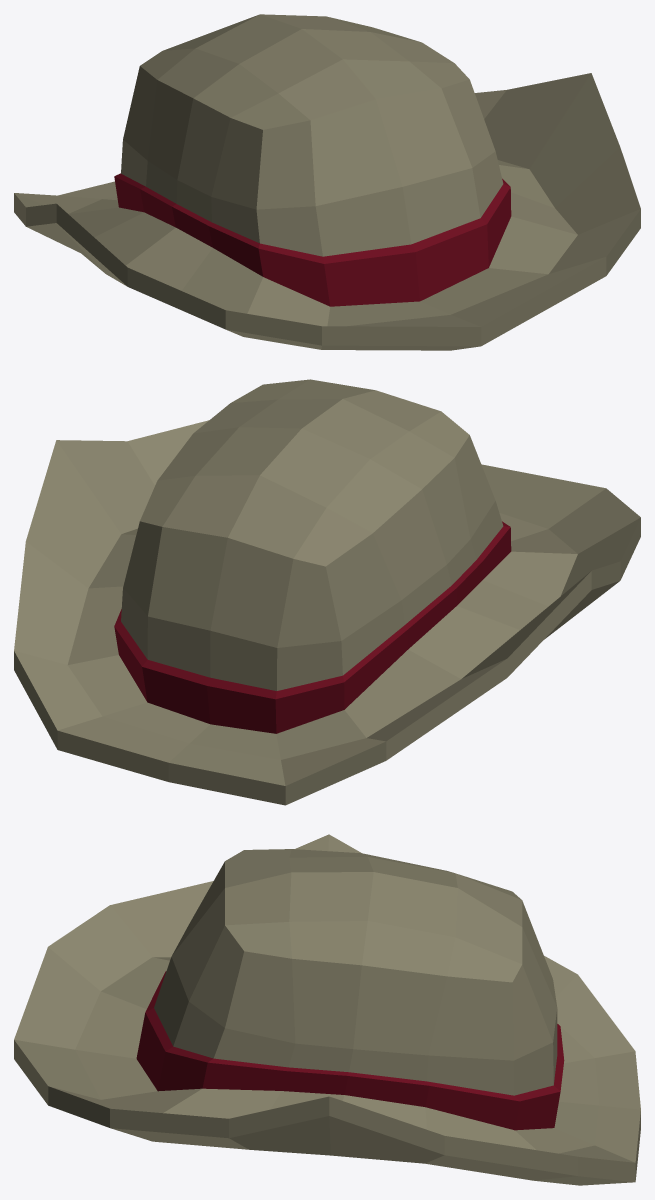
The model's file is hat.glb.
The picture shows the model from 3 angles, top to bottom: view 1: azimuth 30°, elevation 25°; view 2: azimuth 150°, elevation 25°; view 3: azimuth 270°, elevation 25°; orthographic projection.
Parts seen in each view (by area): view 1: hat; view 2: hat; view 3: hat.
Boxes of the visible parts, box(x1,y1,x2,y2) form: hat: box(14, 14, 640, 350); hat: box(14, 379, 640, 805); hat: box(14, 834, 640, 1185).
Bounding box in the file's own units: 0.3536 × 0.1701 × 0.3575.
